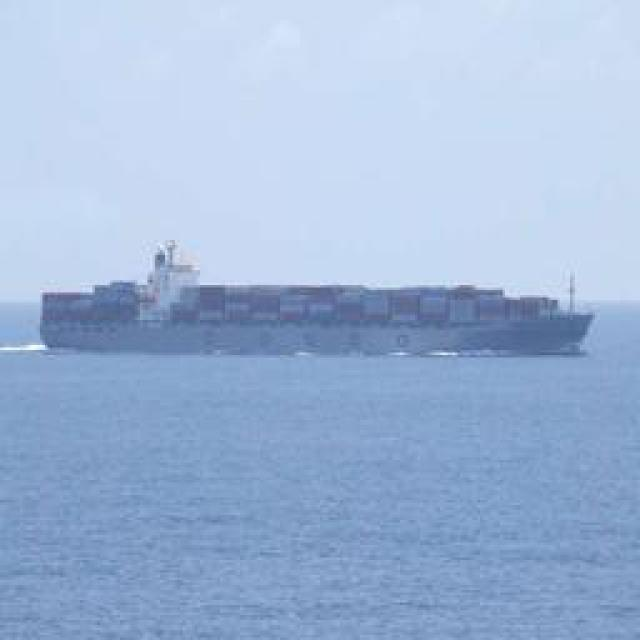Ship: (42, 246, 595, 354)
